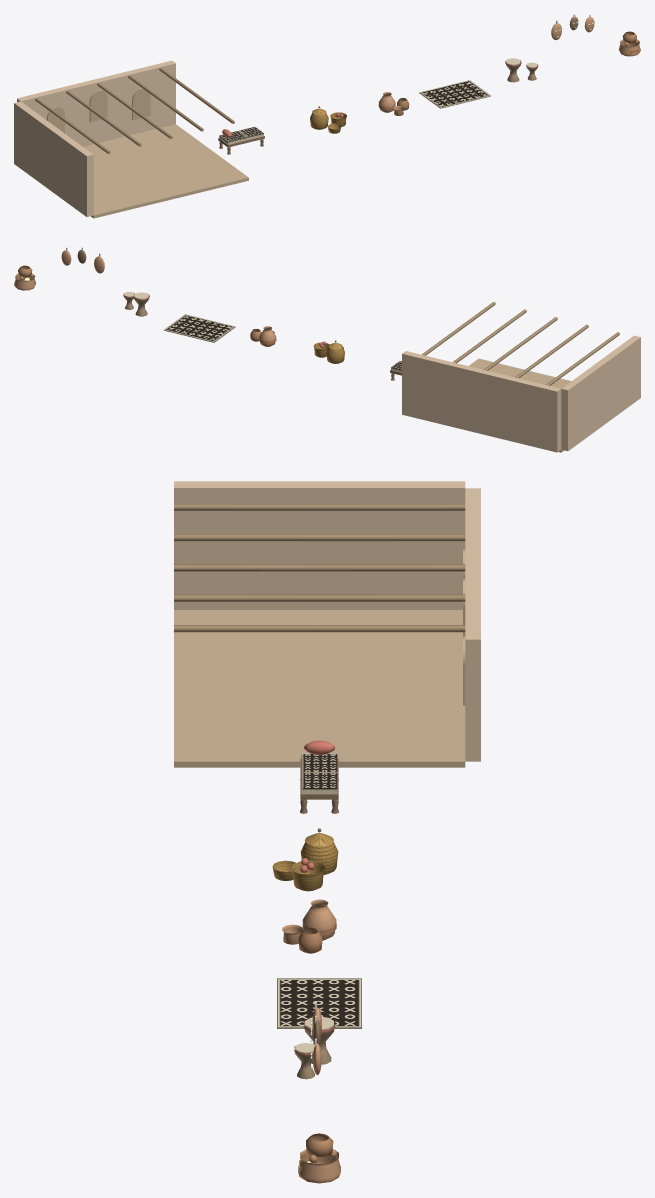
The model's file is kit-27-interior-afrika.glb.
3 renders of one model, top to bottom at view 1: azimuth 30°, elevation 25°; view 2: azimuth 150°, elevation 25°; view 3: azimuth 270°, elevation 25°, orthographic. The views are drawn at different scales.
Visible parts, largest first — view 1: AfrikaIn_RuangAdobe, AfrikaIn_KarpetBogolan, AfrikaIn_DipanUkir, AfrikaIn_Keranjang, AfrikaIn_Tembikar, AfrikaIn_Djembe, AfrikaIn_TungkuTanah, AfrikaIn_TopengDinding; view 2: AfrikaIn_RuangAdobe, AfrikaIn_KarpetBogolan, AfrikaIn_Keranjang, AfrikaIn_TungkuTanah, AfrikaIn_Djembe, AfrikaIn_TopengDinding, AfrikaIn_Tembikar; view 3: AfrikaIn_RuangAdobe, AfrikaIn_KarpetBogolan, AfrikaIn_DipanUkir, AfrikaIn_Keranjang, AfrikaIn_Tembikar, AfrikaIn_TungkuTanah, AfrikaIn_Djembe.
Boxes of the visible parts, x1=… form: AfrikaIn_RuangAdobe: x1=14, y1=60, x2=248, y2=218; AfrikaIn_KarpetBogolan: x1=419, y1=80, x2=490, y2=108; AfrikaIn_DipanUkir: x1=218, y1=127, x2=264, y2=154; AfrikaIn_Keranjang: x1=310, y1=106, x2=346, y2=133; AfrikaIn_Tembikar: x1=378, y1=92, x2=409, y2=115; AfrikaIn_Djembe: x1=505, y1=58, x2=538, y2=82; AfrikaIn_TungkuTanah: x1=618, y1=31, x2=640, y2=56; AfrikaIn_TopengDinding: x1=551, y1=14, x2=594, y2=40; AfrikaIn_RuangAdobe: x1=402, y1=302, x2=640, y2=452; AfrikaIn_KarpetBogolan: x1=164, y1=314, x2=235, y2=342; AfrikaIn_Keranjang: x1=313, y1=340, x2=344, y2=363; AfrikaIn_TungkuTanah: x1=14, y1=265, x2=36, y2=290; AfrikaIn_Djembe: x1=123, y1=291, x2=149, y2=316; AfrikaIn_TopengDinding: x1=61, y1=247, x2=104, y2=273; AfrikaIn_Tembikar: x1=250, y1=326, x2=276, y2=346; AfrikaIn_RuangAdobe: x1=174, y1=481, x2=480, y2=767; AfrikaIn_KarpetBogolan: x1=277, y1=978, x2=361, y2=1028; AfrikaIn_DipanUkir: x1=300, y1=740, x2=338, y2=813; AfrikaIn_Keranjang: x1=272, y1=828, x2=338, y2=891; AfrikaIn_Tembikar: x1=282, y1=899, x2=336, y2=953; AfrikaIn_TungkuTanah: x1=298, y1=1133, x2=340, y2=1183; AfrikaIn_Djembe: x1=294, y1=1017, x2=335, y2=1079.
Size of the model in its own units: 30.36 by 3.15 by 6.86.
12 materials, 2 textured.
